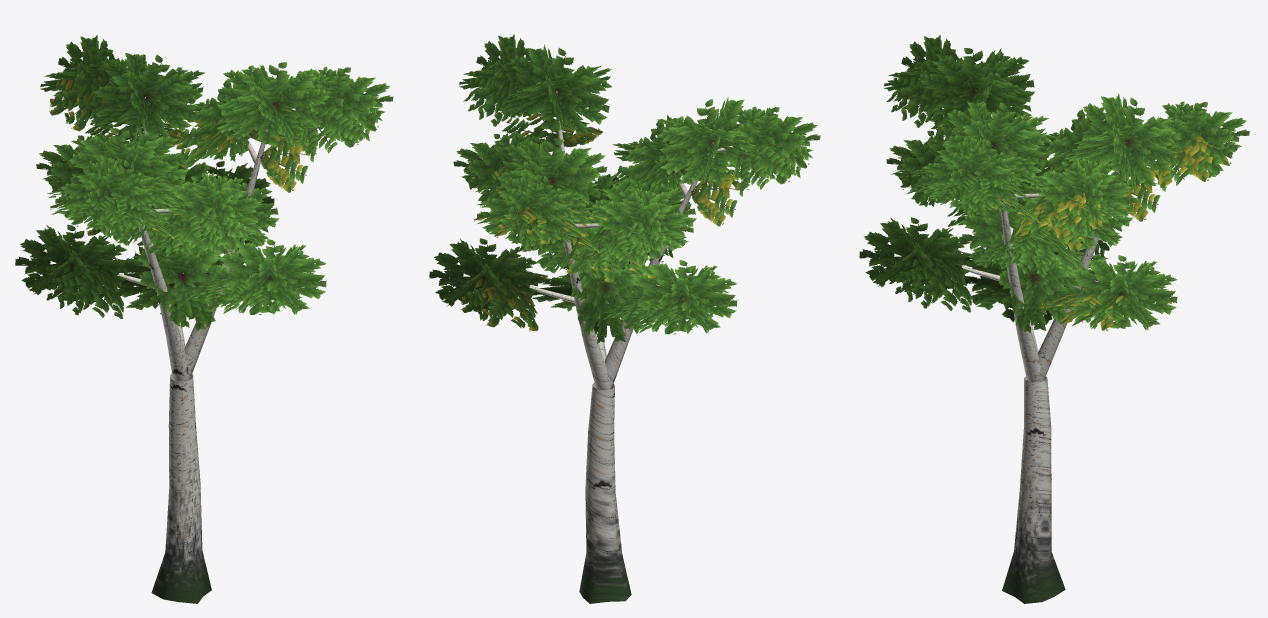
File: duckov_birch_tree.obj
The picture shows the model from 3 angles, left to right: view 1: azimuth 30°, elevation 25°; view 2: azimuth 150°, elevation 25°; view 3: azimuth 270°, elevation 25°; orthographic projection. The views are drawn at different scales.
Visible parts, largest first — view 1: DuckovBirchTree; view 2: DuckovBirchTree; view 3: DuckovBirchTree.
Boxes of the visible parts, bbox=[...] form: DuckovBirchTree: bbox=[15, 35, 393, 603]; DuckovBirchTree: bbox=[429, 34, 820, 603]; DuckovBirchTree: bbox=[859, 35, 1249, 603].
Bounding box in the file's own units: 4.27 × 6.04 × 4.11.
Materials: 1 (1 with a texture image).
